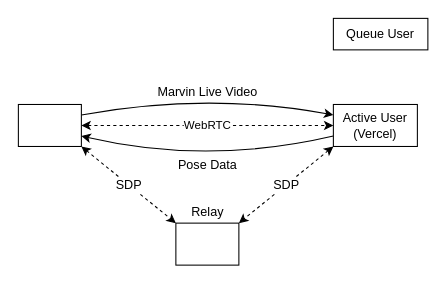
Image size: 446x284. Some labels were removed from this diagram. The shapes that lost their labels are listed below. From the top down, each one's centre as x and y in pixels, then its label:
(49,124): Marvin (Vercel)
(207,243): STUN/ TURN
